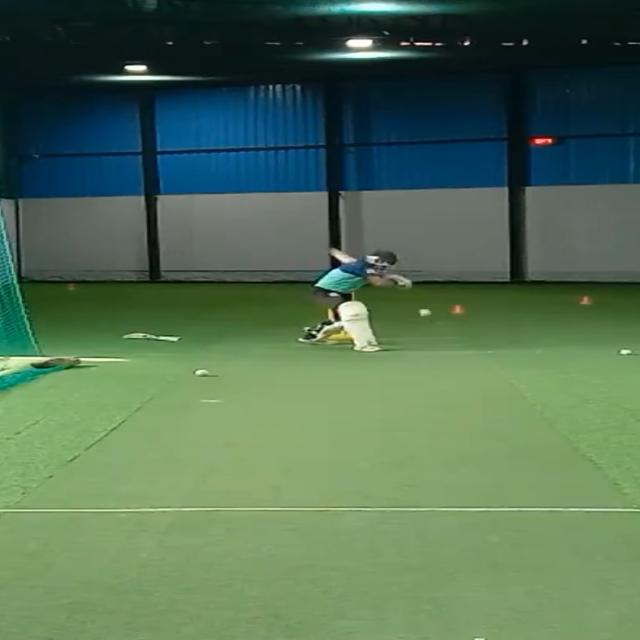ball: (414, 307, 433, 319), (616, 347, 634, 357), (193, 368, 210, 378)
